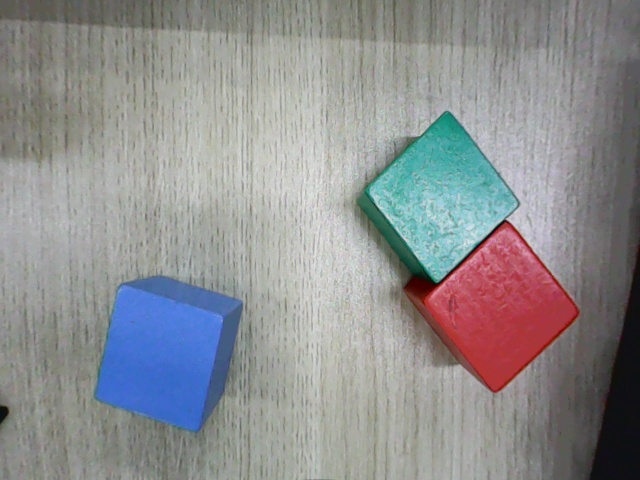upside of big cube: (424, 221, 581, 397), (366, 111, 520, 286), (93, 284, 224, 434)
